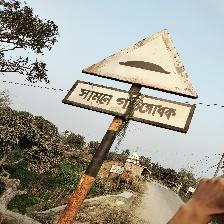Speed-breaker: (65, 28, 200, 133)
